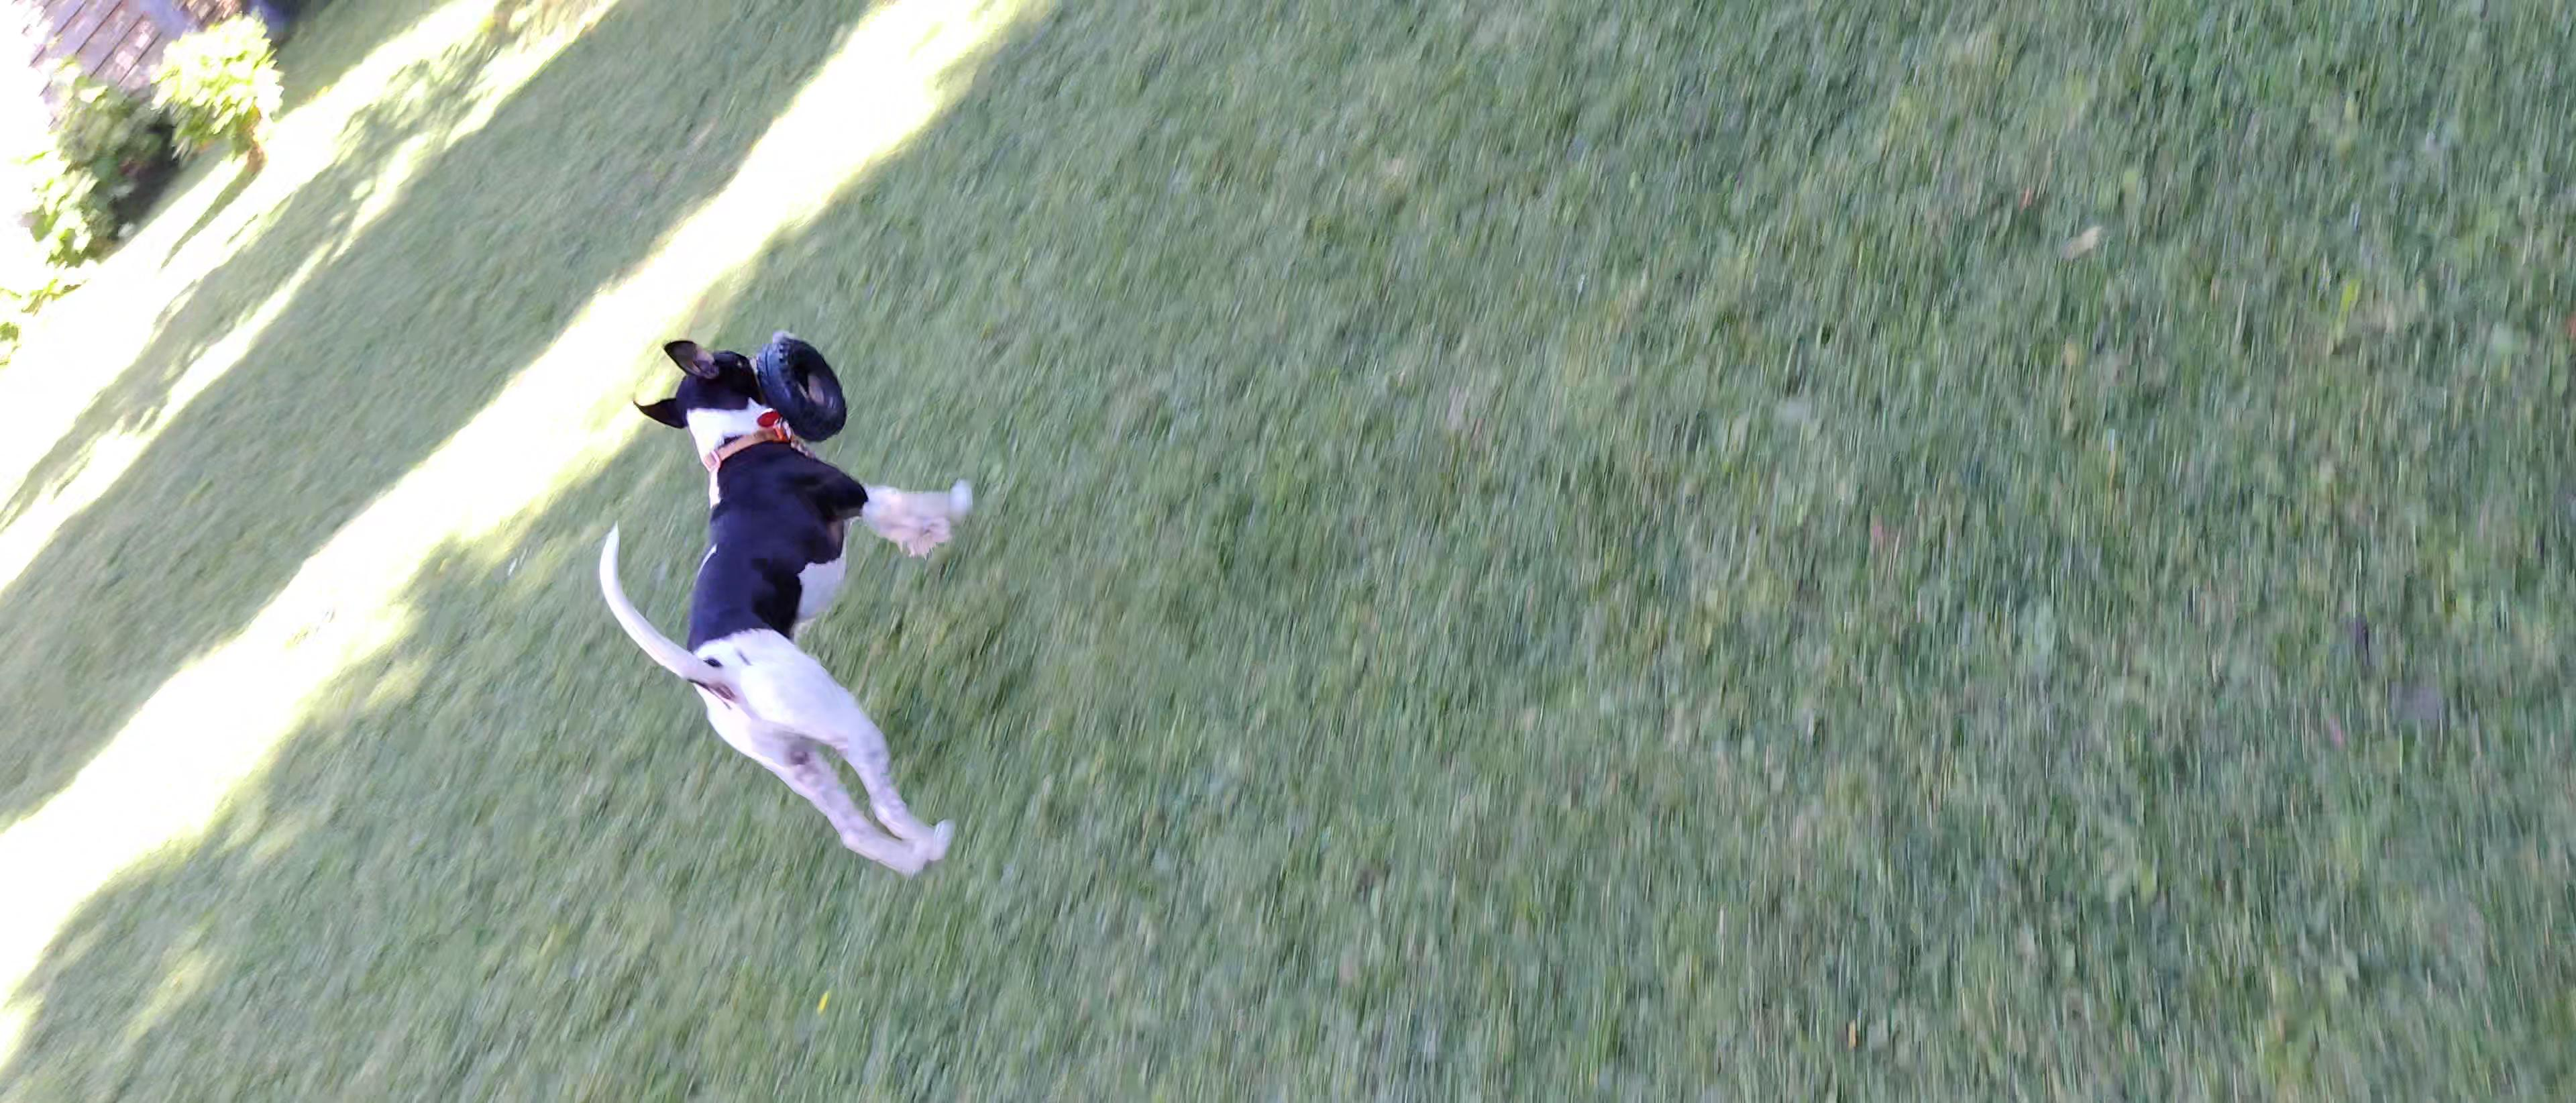Dog: (590, 321, 981, 879)
